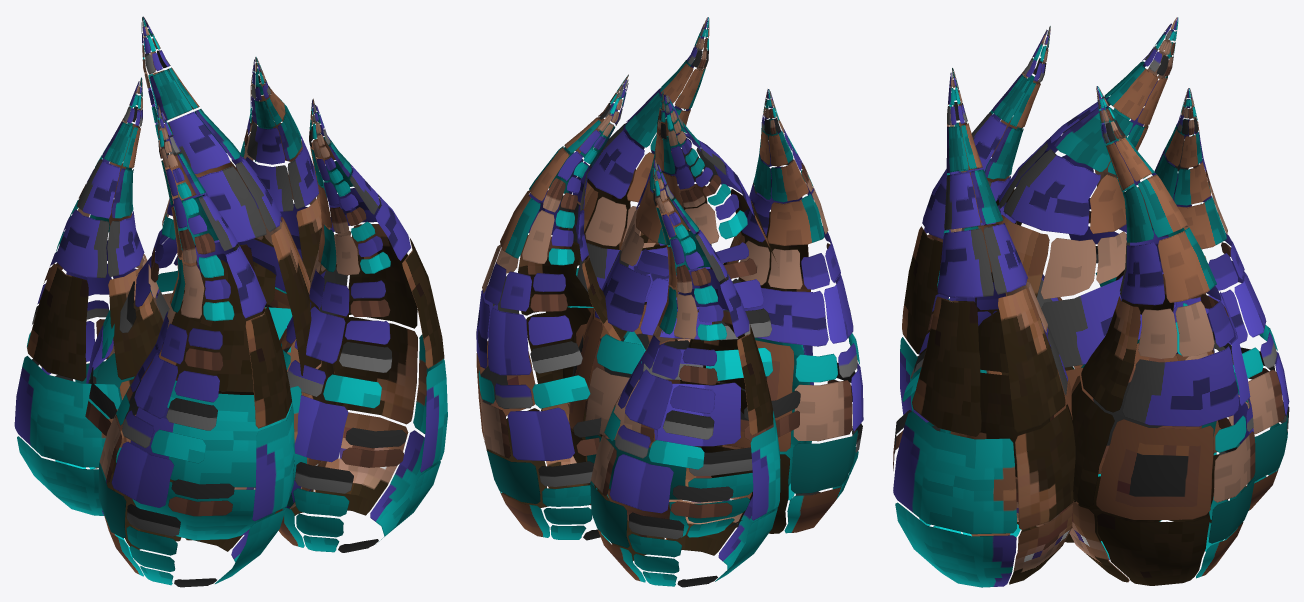
3 views of the same model, side by side, from view 1: azimuth 30°, elevation 25°; view 2: azimuth 150°, elevation 25°; view 3: azimuth 270°, elevation 25° (orthographic). The views are drawn at different scales.
Parts seen in each view (by area): view 1: flame_NurbsPath.015; view 2: flame_NurbsPath.015; view 3: flame_NurbsPath.015.
Boxes of the visible parts, x1,y1,x2,y2 form: flame_NurbsPath.015: (14, 16, 447, 587); flame_NurbsPath.015: (476, 17, 863, 587); flame_NurbsPath.015: (893, 17, 1289, 587).
Size of the model in its own units: 0.7655 by 1.14 by 0.8008.
